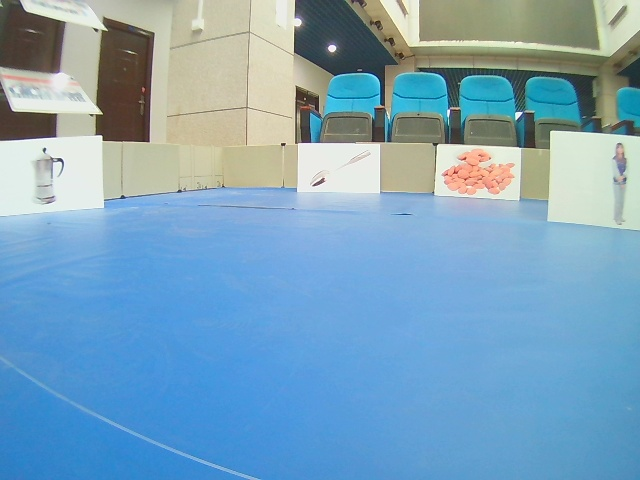dish: (1, 135, 107, 217), (295, 141, 380, 196)
food: (434, 142, 524, 202)
person: (548, 129, 640, 231)
